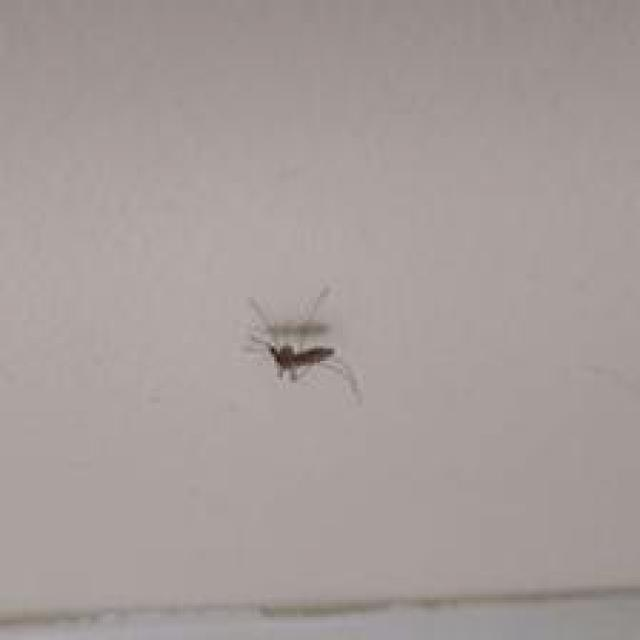Culex: (243, 283, 363, 406)
